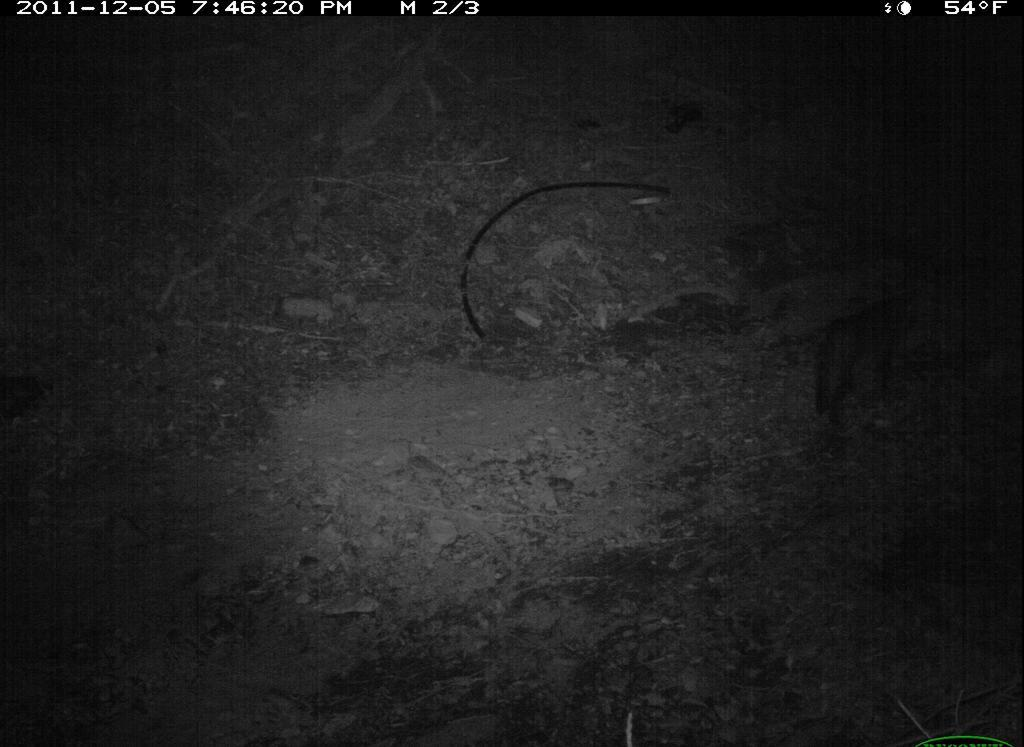cat: (804, 272, 934, 445)
